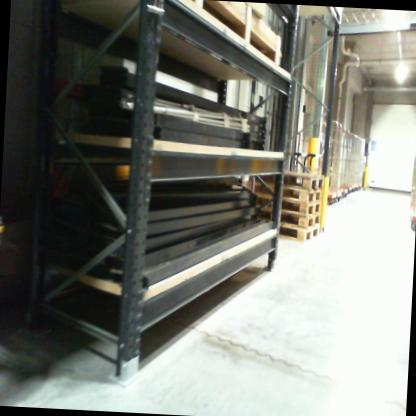pallet: (55, 0, 281, 73), (248, 161, 328, 190), (246, 177, 326, 205), (249, 202, 327, 230), (246, 194, 326, 214), (252, 220, 326, 240)
